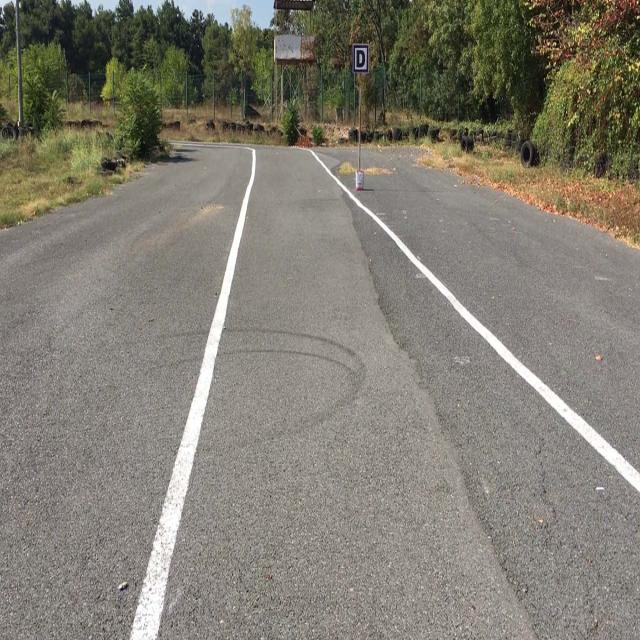durak: (354, 43, 368, 73)
